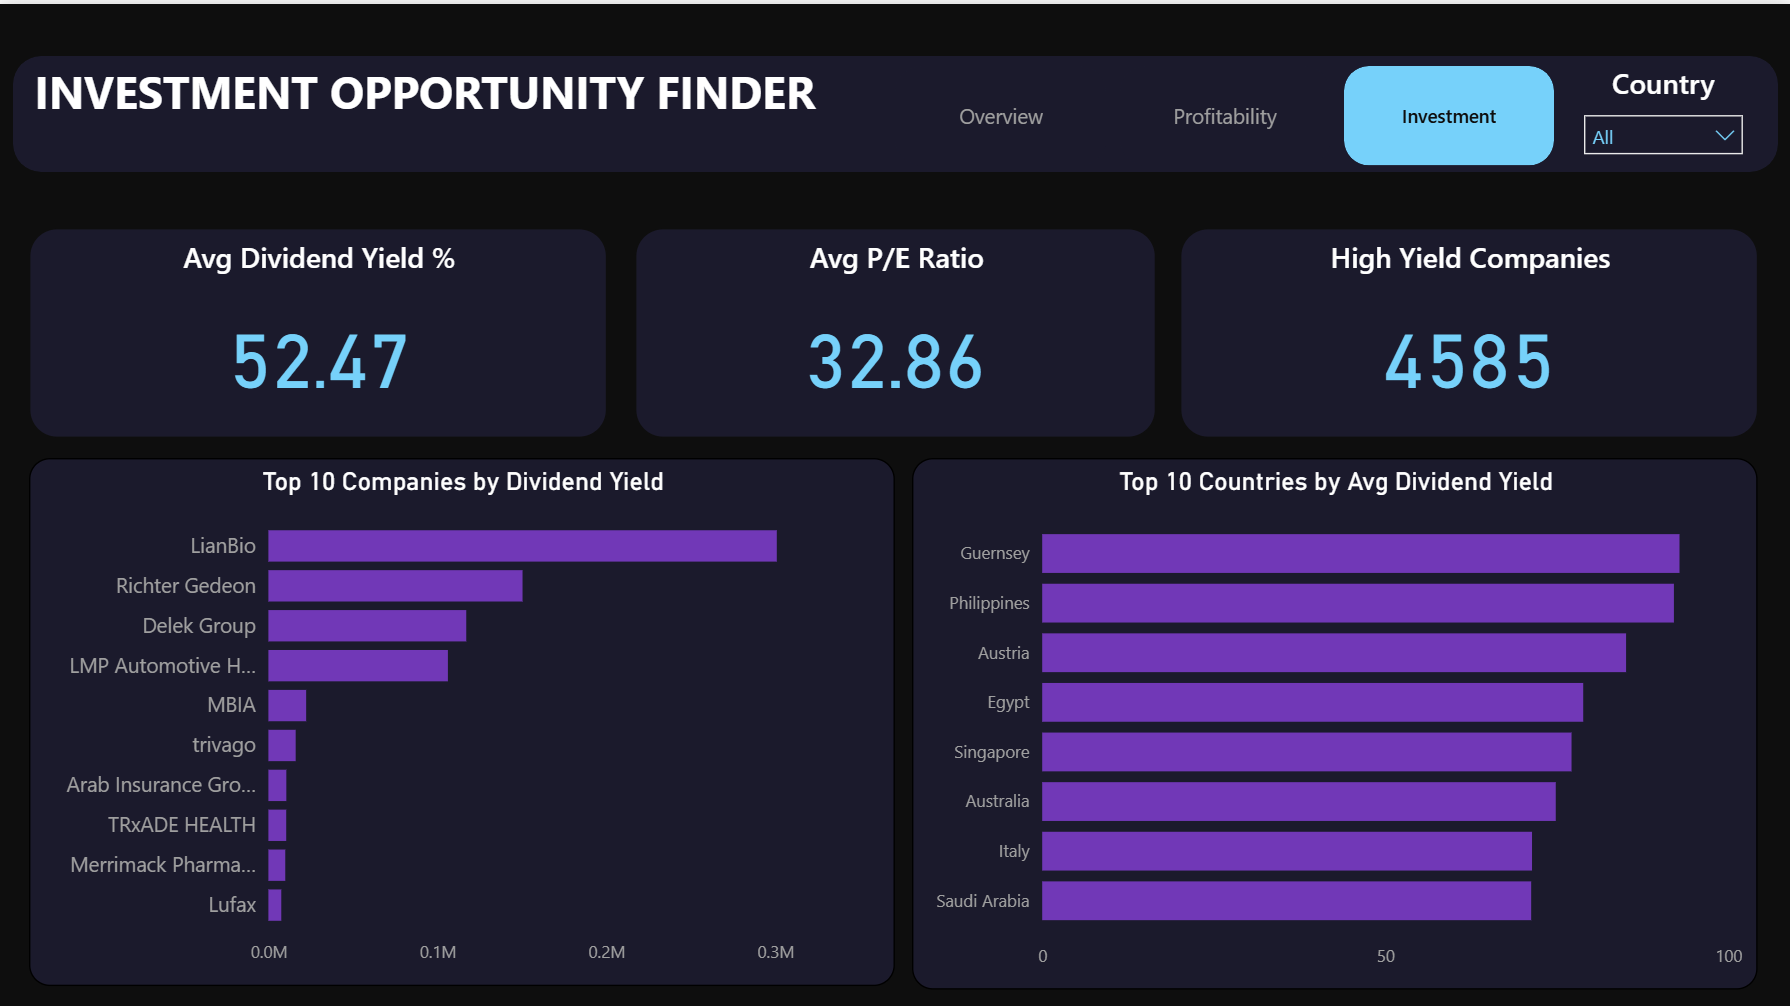

Layout of this report page (visuals, bound fields, positions):
{"tool":"powerbi","page":{"name":"Investment","canvas":[1280,720],"ordinal":2},"visuals":[{"type":"shape","box":[10,37.1,1260,82.9],"z":0},{"type":"textbox","box":[10,36.2,630,83.8],"z":1000},{"type":"slicer","title":"Country","fields":{"Values":["Dim_Country.country"]},"box":[1121.7,43.3,133.3,71.7],"z":2000},{"type":"card","title":"Avg P/E Ratio","fields":{"Values":["Fact_Companies.Avg PE Ratio"]},"box":[454.3,160,371.4,150],"z":3000},{"type":"card","title":"High Yield Companies","fields":{"Values":["Fact_Companies.High Yield Companies"]},"box":[842.9,160,412.9,150],"z":4000},{"type":"card","title":"Avg Dividend Yield %","fields":{"Values":["Fact_Companies.Avg Dividend Yield"]},"box":[21.4,160,412.9,150],"z":5000},{"type":"barChart","title":"Top 10 Companies by Dividend Yield","fields":{"Category":["Fact_Companies.Name"],"Y":["Sum(Fact_Companies.dividend_yield_ttm)"]},"box":[21.7,325,618.3,376.7],"z":6000},{"type":"barChart","title":"Top 10 Countries by Avg Dividend Yield","fields":{"Category":["Dim_Country.country"],"Y":["Fact_Companies.Avg Dividend Yield"]},"box":[651.9,324.7,603.9,379.2],"z":7000},{"type":"pageNavigator","box":[640,43.8,472.5,71.2],"z":8000}]}

Visuals, with their boxes in screenshot pixels (x1, y1, x2, y2), scaled from the page's 1280x720 canvas onto the 1790x1006 screenshot:
shape: x1=14 y1=52 x2=1776 y2=168
textbox: x1=14 y1=51 x2=895 y2=168
"Country" slicer: x1=1569 y1=60 x2=1755 y2=161
"Avg P/E Ratio" card: x1=635 y1=224 x2=1155 y2=433
"High Yield Companies" card: x1=1179 y1=224 x2=1756 y2=433
"Avg Dividend Yield %" card: x1=30 y1=224 x2=607 y2=433
"Top 10 Companies by Dividend Yield" barChart: x1=30 y1=454 x2=895 y2=980
"Top 10 Countries by Avg Dividend Yield" barChart: x1=912 y1=454 x2=1756 y2=984
pageNavigator: x1=895 y1=61 x2=1556 y2=161
